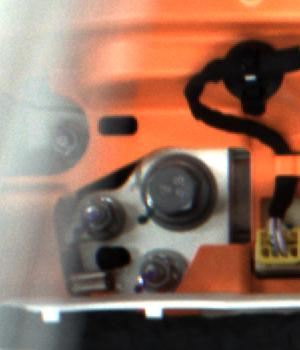nut_b: (140, 151, 216, 228)
